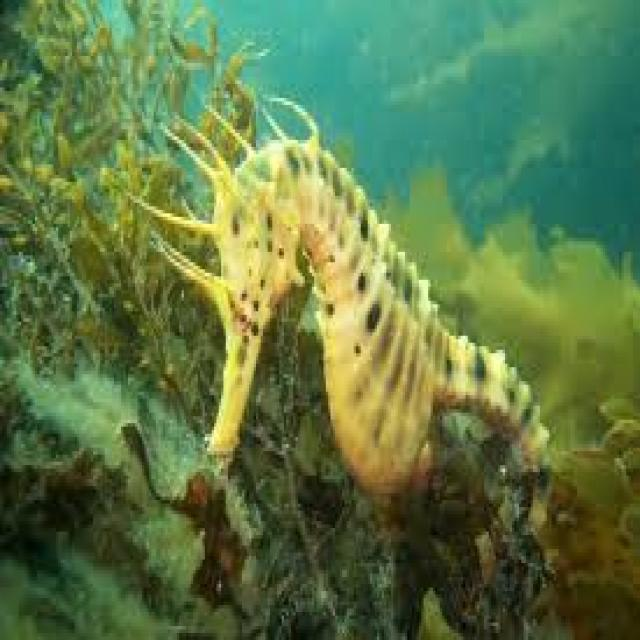SeaHorse: (210, 143, 540, 528)
